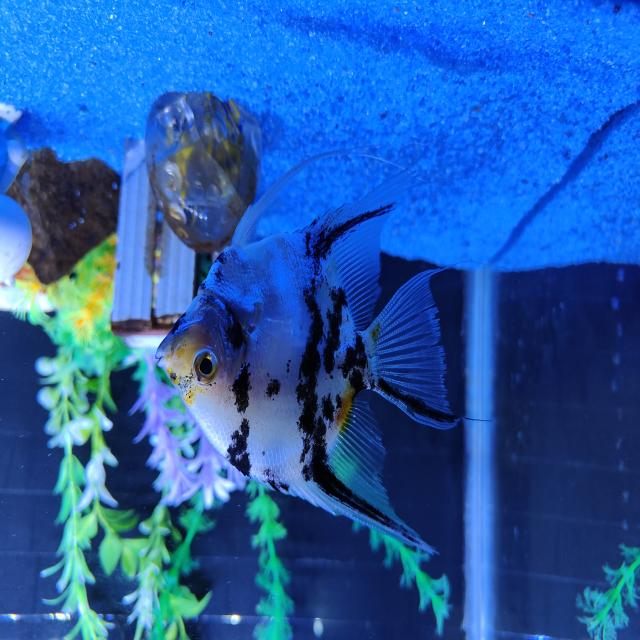Fish: (156, 153, 456, 551)
